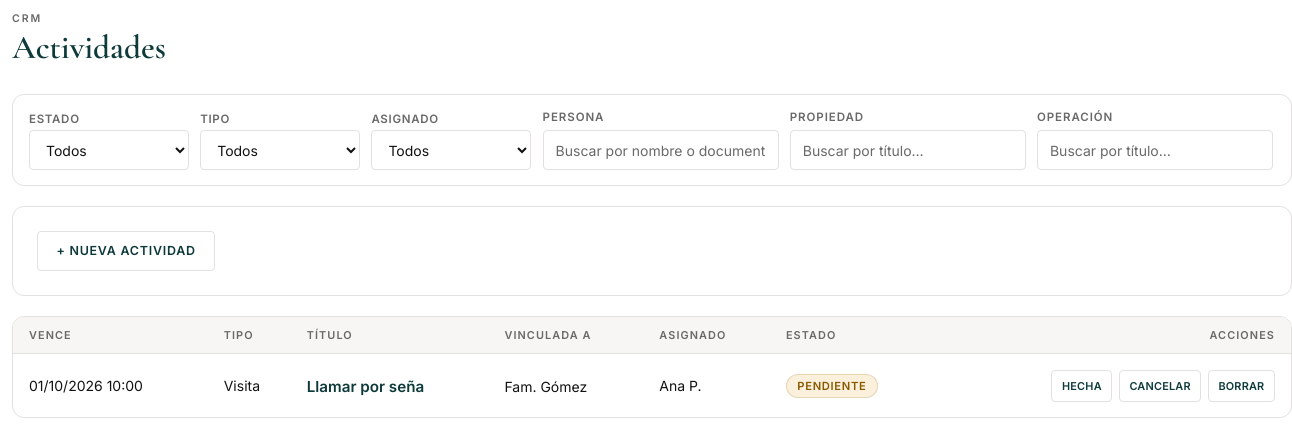
Test: borrar pide confirmación y saca la fila
Expected: the text "Llamar por seña" is shown, x1=307 y1=376 x2=424 y2=396
Click the button "Borrar" at (1241, 386), box x1=1208 y1=370 x2=1275 y2=402
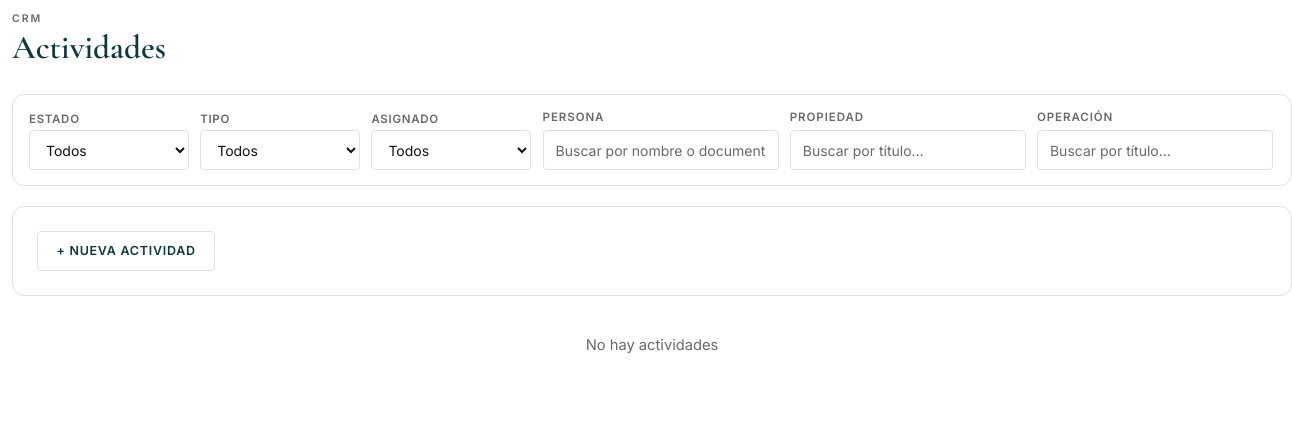
Result: the text "Llamar por seña" is gone
